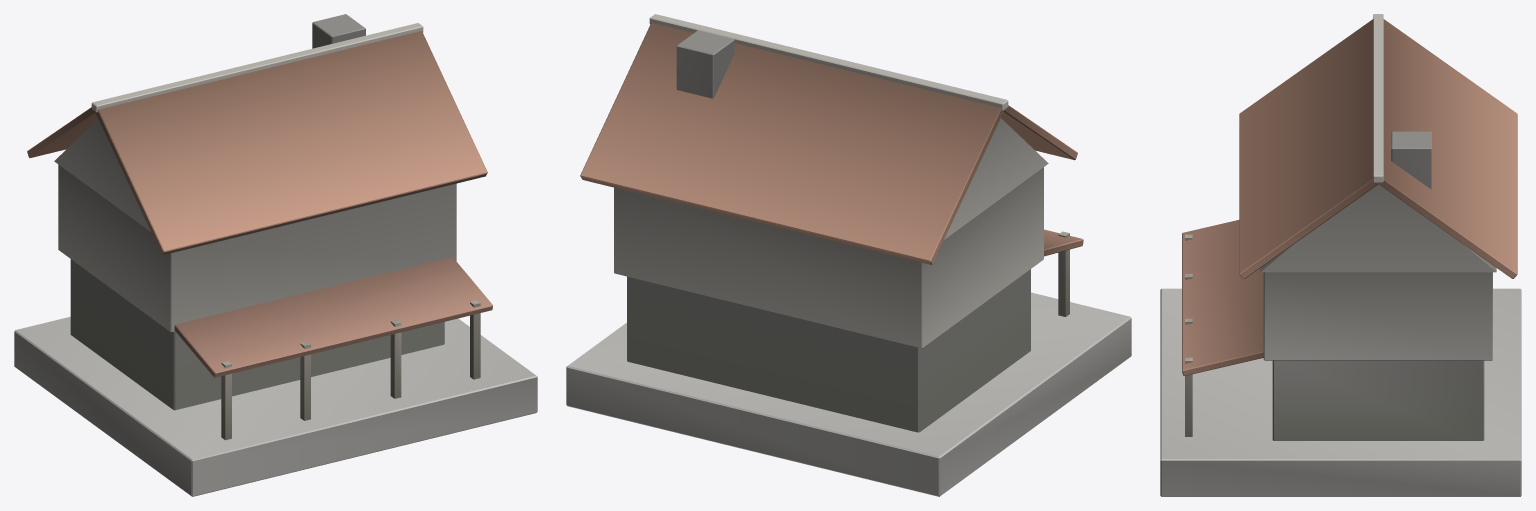
File: tavern_l1_lod2.glb
The picture shows the model from 3 angles, left to right: view 1: azimuth 30°, elevation 25°; view 2: azimuth 150°, elevation 25°; view 3: azimuth 270°, elevation 25°; orthographic projection. The views are drawn at different scales.
Parts seen in each view (by area): view 1: tavern_l1_lod2; view 2: tavern_l1_lod2; view 3: tavern_l1_lod2.
Boxes of the visible parts, left/top/right/bottom form: tavern_l1_lod2: left=14, top=14, right=537, bottom=496; tavern_l1_lod2: left=566, top=14, right=1131, bottom=496; tavern_l1_lod2: left=1160, top=14, right=1521, bottom=496.
Size of the model in its own units: 9.2 by 8.02 by 8.2.
